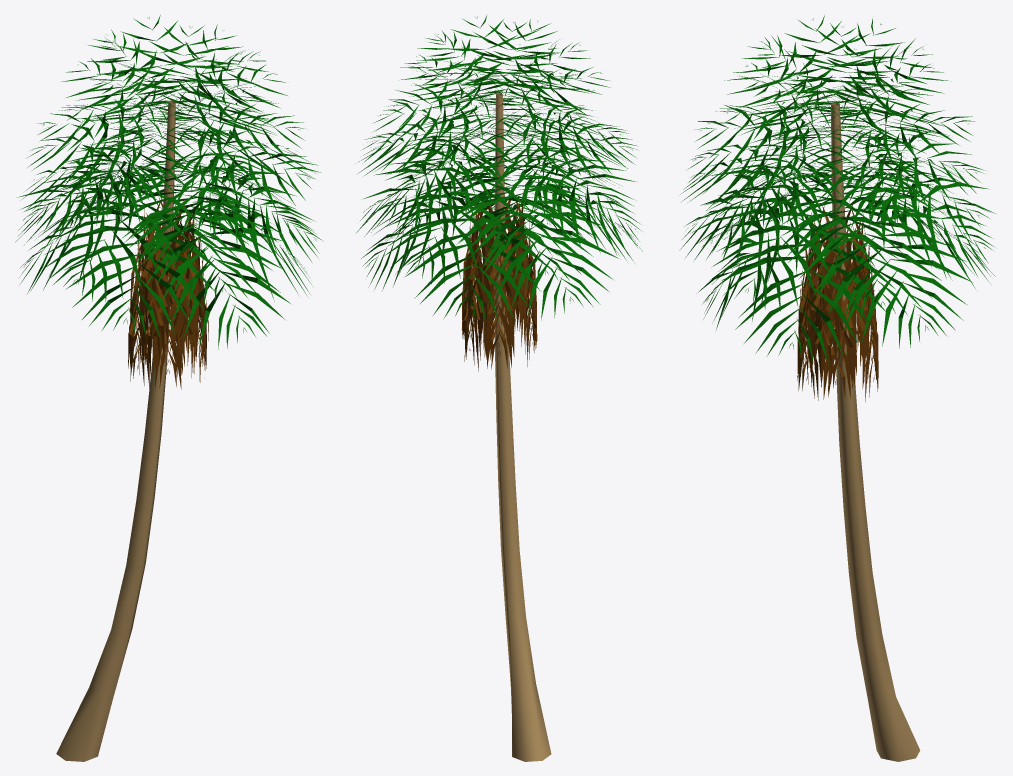
Rendered from Tree.FBX.
3 views of the same model, side by side, from view 1: azimuth 30°, elevation 25°; view 2: azimuth 150°, elevation 25°; view 3: azimuth 270°, elevation 25° (orthographic). The views are drawn at different scales.
Parts seen in each view (by area): view 1: Foliage001; view 2: Foliage001; view 3: Foliage001.
Boxes of the visible parts, x1=… form: Foliage001: x1=15, y1=15, x2=323, y2=761; Foliage001: x1=356, y1=15, x2=642, y2=761; Foliage001: x1=679, y1=15, x2=995, y2=761.
Bounding box in the file's own units: 2210 × 2158 × 5476.
